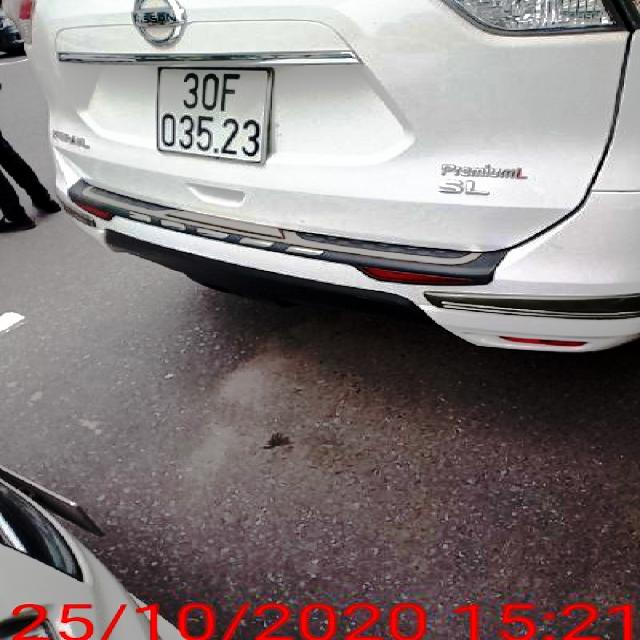license_plate: (155, 68, 273, 163)
